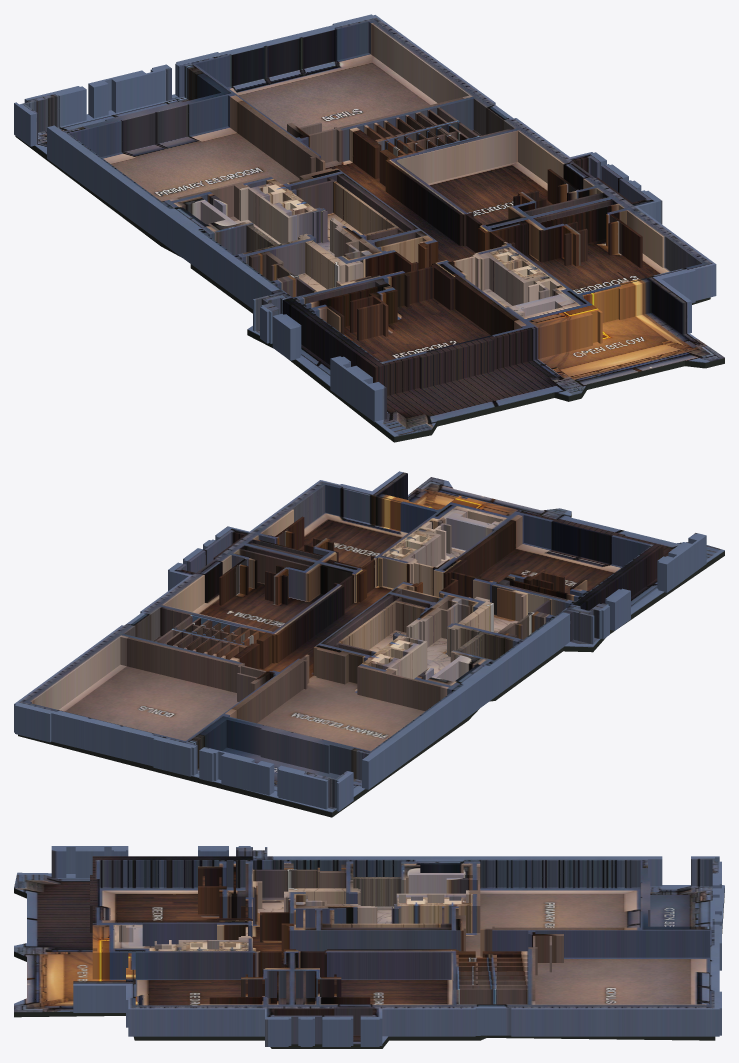
File: magnolia-1.glb
3 renders of one model, top to bottom at view 1: azimuth 30°, elevation 25°; view 2: azimuth 150°, elevation 25°; view 3: azimuth 270°, elevation 25°, orthographic. The views are drawn at different scales.
Visible parts, largest first — view 1: walls, photo, base; view 2: walls, photo, base; view 3: walls, photo, base.
Boxes of the visible parts, x1=… form: walls: x1=14, y1=14, x2=716, y2=422; photo: x1=34, y1=53, x2=724, y2=436; base: x1=15, y1=136, x2=724, y2=442; walls: x1=14, y1=471, x2=706, y2=811; photo: x1=59, y1=477, x2=724, y2=812; base: x1=18, y1=512, x2=724, y2=817; walls: x1=51, y1=846, x2=721, y2=1046; photo: x1=14, y1=872, x2=724, y2=1044; base: x1=14, y1=888, x2=724, y2=1048.
Size of the model in its own units: 10.77 by 0.9296 by 18.62.
Materials: 3 (2 with a texture image).
